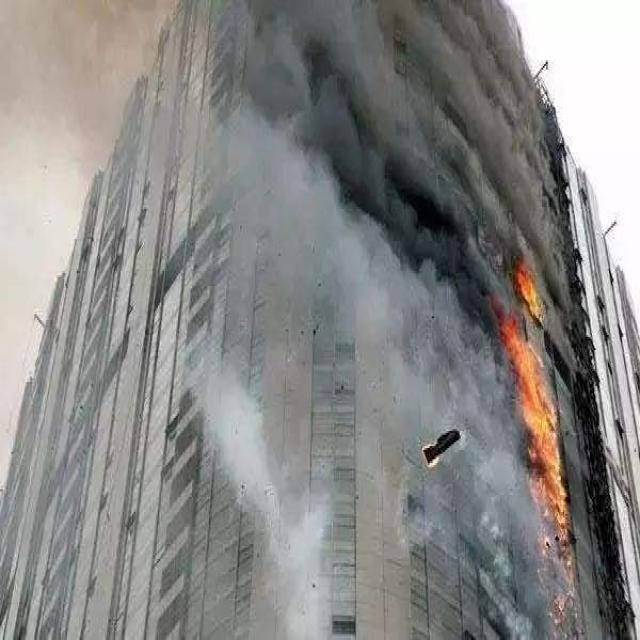Fire: (501, 263, 574, 627)
Smoke: (76, 2, 572, 640)
